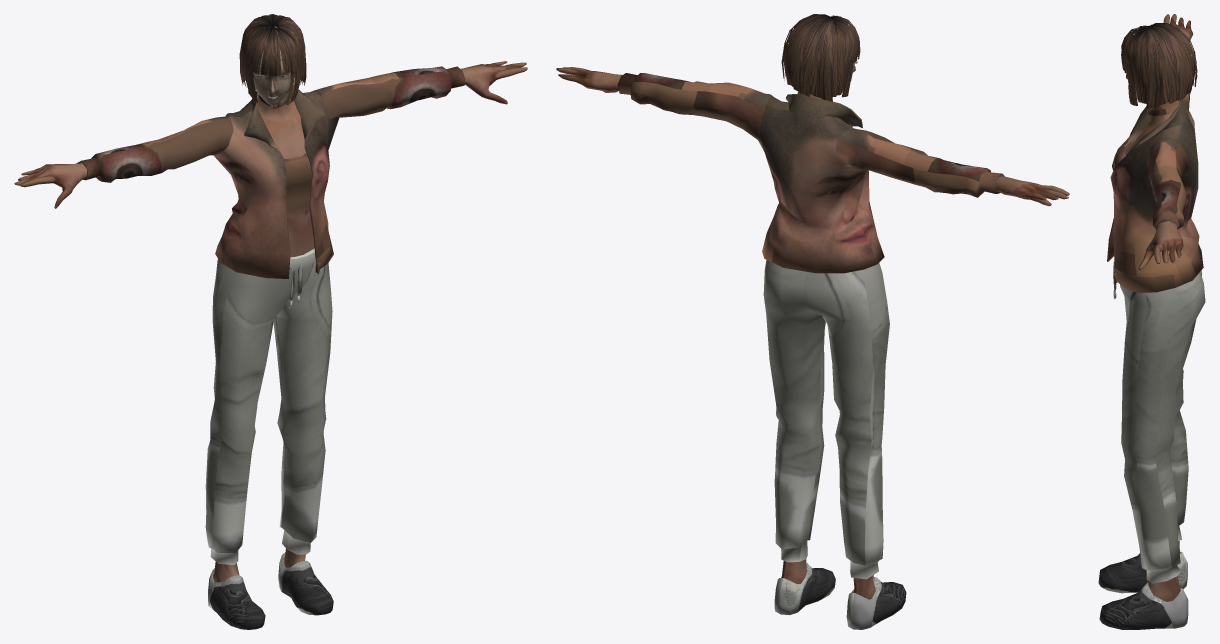
File: Kelly[Blender-Render][Mouthed].fbx
3 renders of one model, left to right at view 1: azimuth 30°, elevation 25°; view 2: azimuth 150°, elevation 25°; view 3: azimuth 270°, elevation 25°, orthographic.
Visible parts, largest first — view 1: kelly.001_kellymesh; view 2: kelly.001_kellymesh; view 3: kelly.001_kellymesh.
Part boxes in pixels (x1,y1,x2,y2): kelly.001_kellymesh: [14, 14, 527, 629]; kelly.001_kellymesh: [556, 14, 1069, 629]; kelly.001_kellymesh: [1098, 14, 1205, 629].
Size of the model in its own units: 298 by 328 by 54.27.
